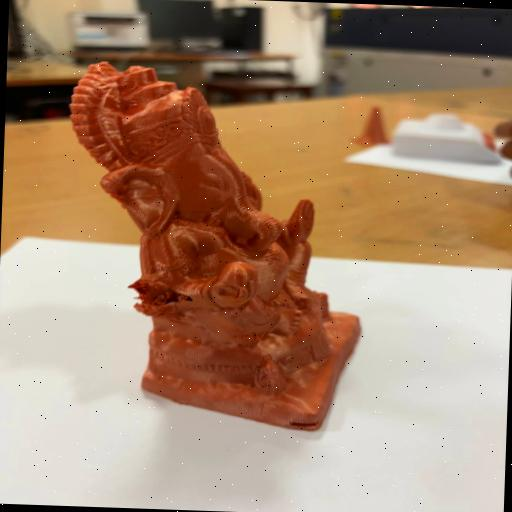cracks: (127, 274, 190, 326), (281, 404, 321, 441)
